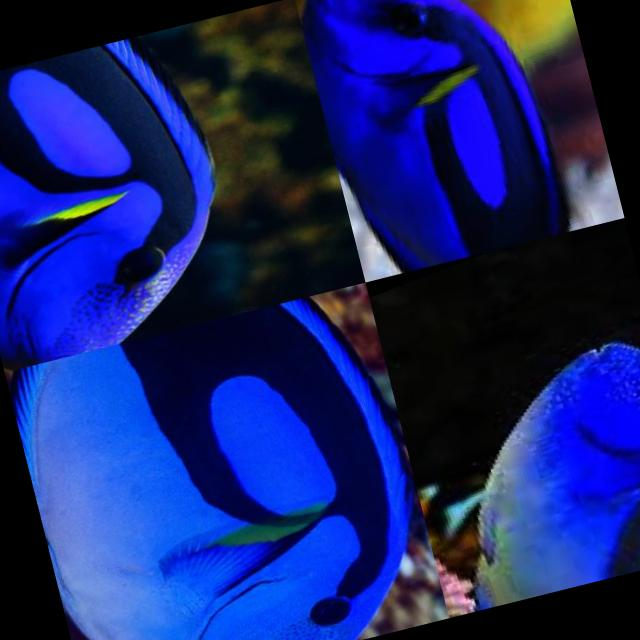BlueTang: (3, 282, 448, 640), (0, 26, 246, 370), (293, 0, 572, 285), (443, 334, 640, 605)
